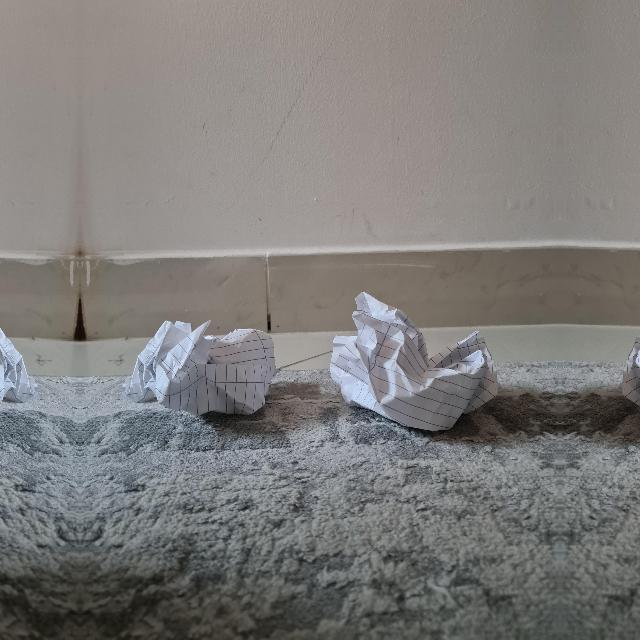paper: (332, 292, 503, 432), (130, 320, 282, 418), (616, 291, 640, 432), (0, 320, 30, 417)
